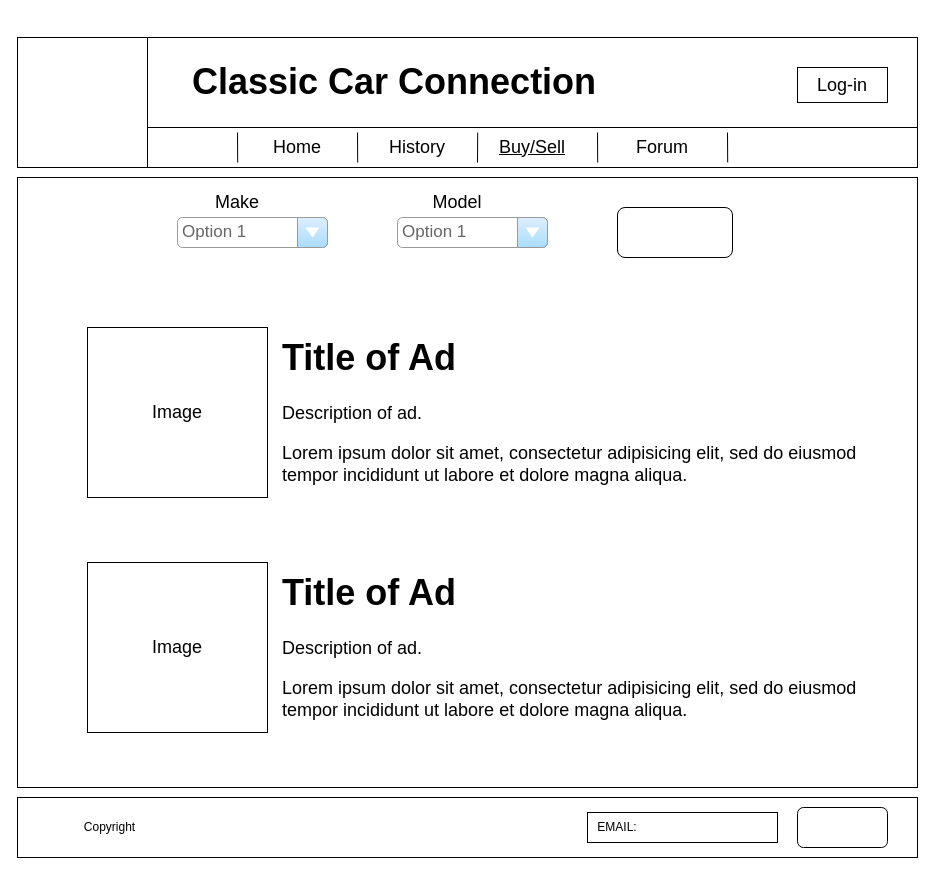
Some shapes in this 935 by 875 pixel diagram are drawn without their labels. The shapes that lost their labels are listed below. From the top down, each one's centre as x and y in pixels, then its label:
At pixel 82 102: "Logo".
At pixel 674 232: "Search".
At pixel 842 827: "Sign up".
